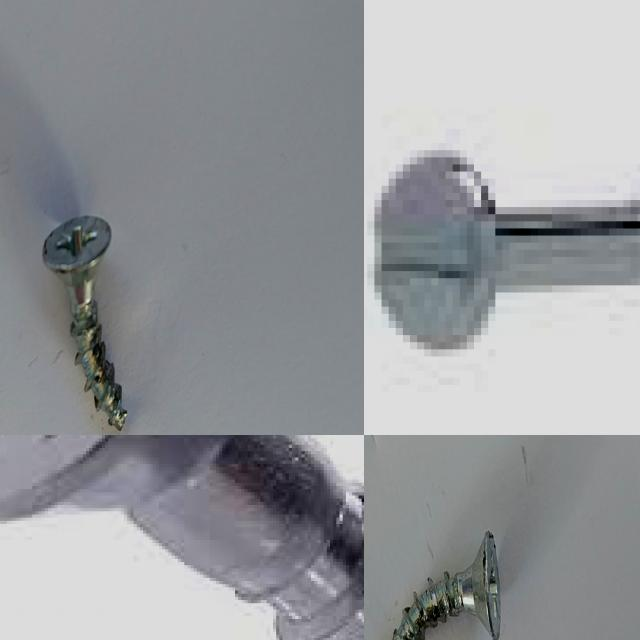Screw: (0, 435, 364, 640), (382, 157, 640, 342), (43, 215, 127, 430), (391, 530, 501, 640)
